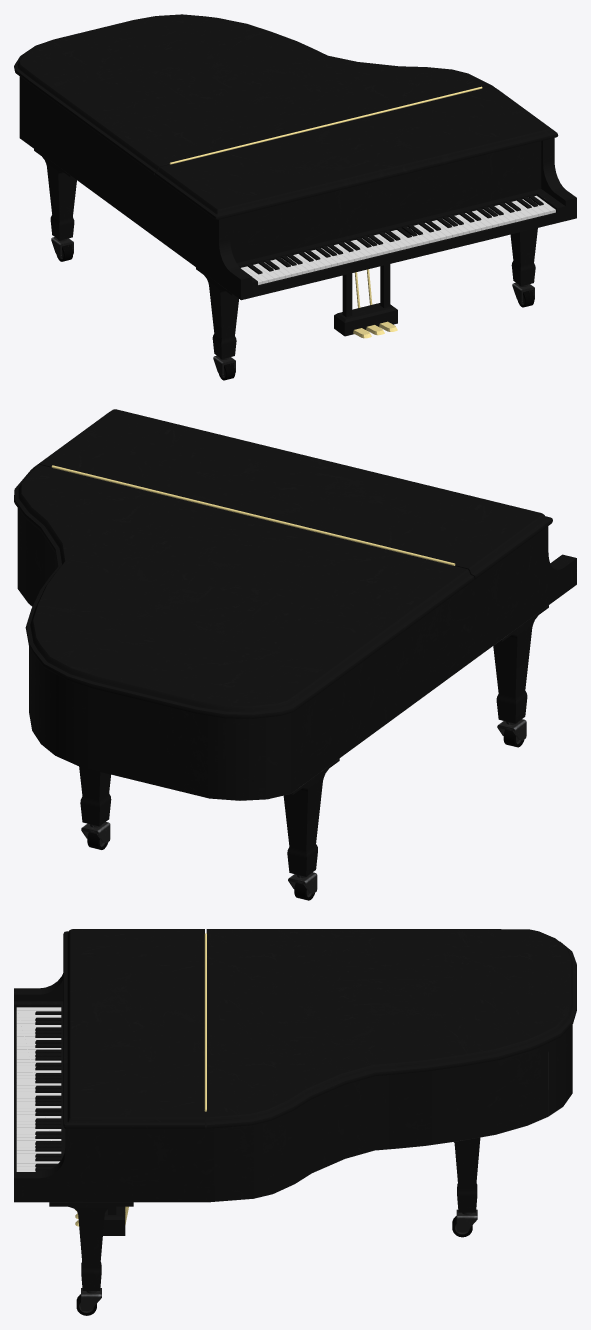
File: Piano.gltf
3 views of the same model, one above another, from view 1: azimuth 30°, elevation 25°; view 2: azimuth 150°, elevation 25°; view 3: azimuth 270°, elevation 25° (orthographic). The views are drawn at different scales.
Size of the model in its own units: 35.23 by 17.62 by 43.18.
1 material, 1 textured.
